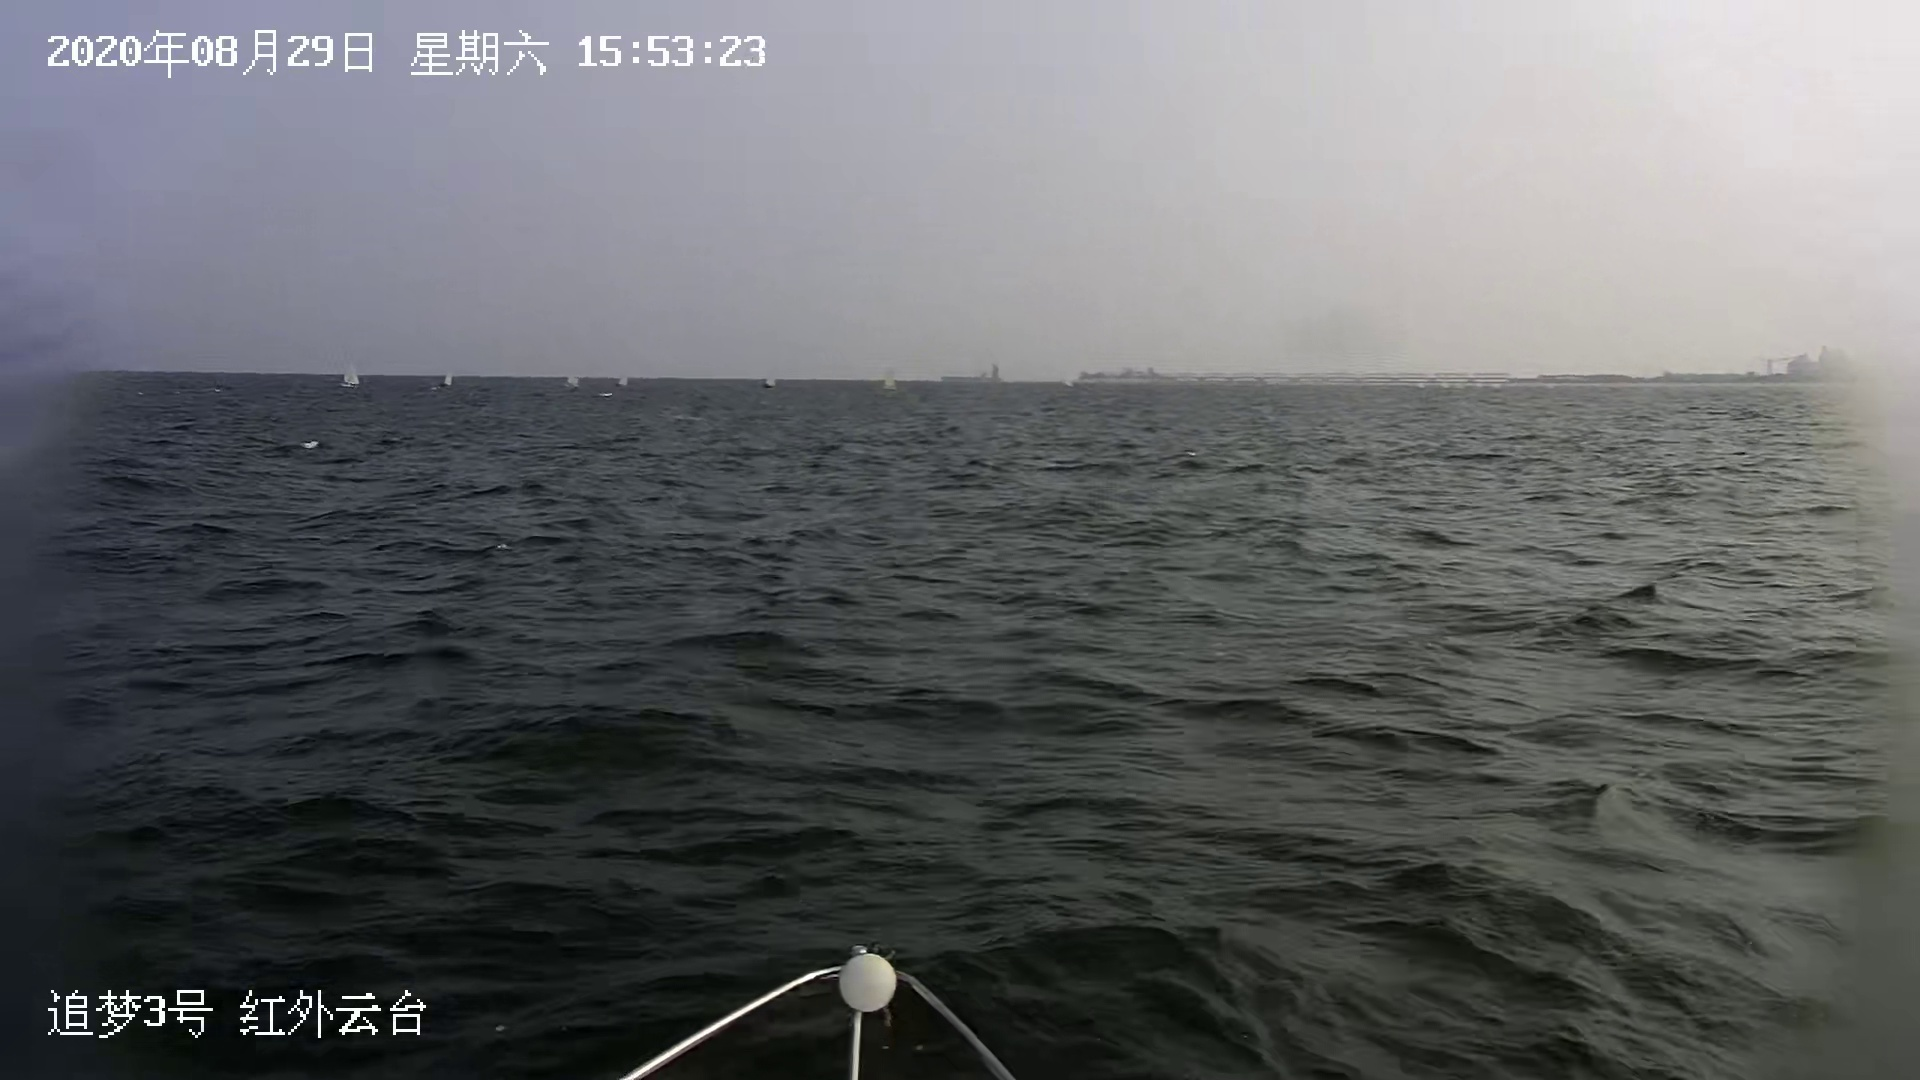barrier: (564, 367, 582, 393), (342, 363, 359, 388), (884, 367, 897, 390), (764, 369, 777, 390), (440, 368, 455, 384), (618, 371, 632, 385)
coast: (938, 340, 1895, 393)
